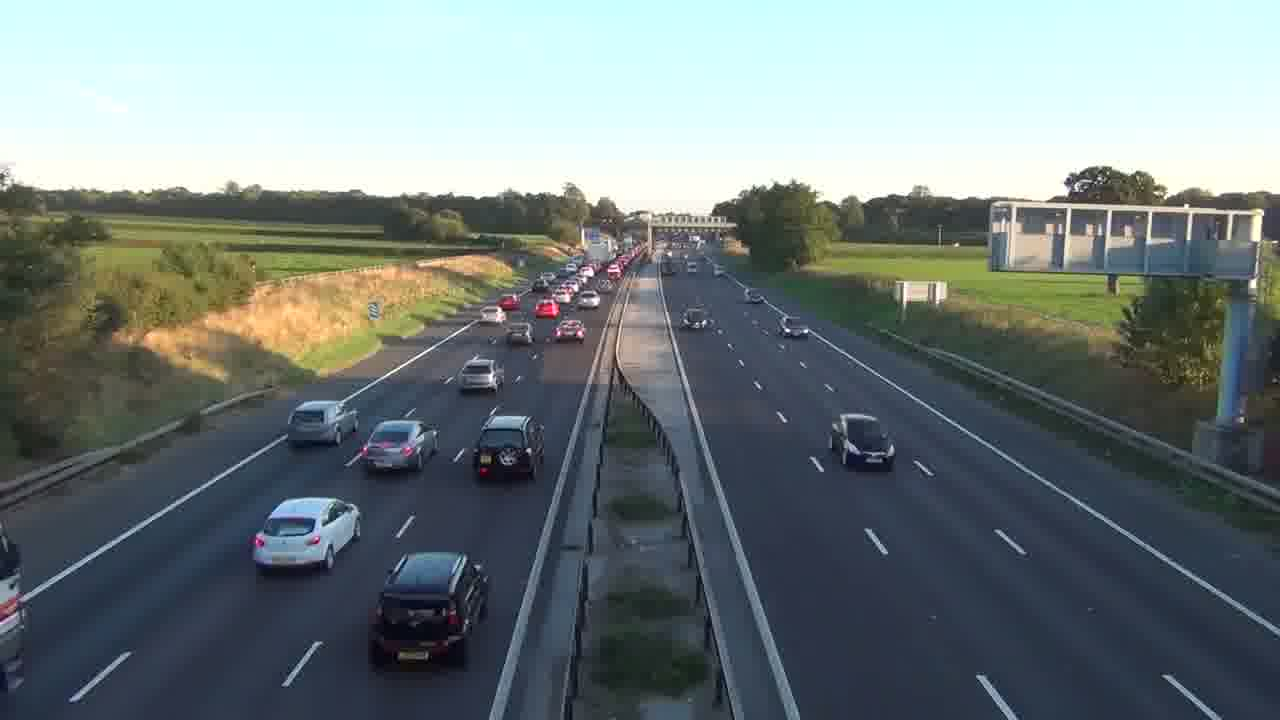car: (368, 550, 492, 667), (251, 496, 362, 575), (0, 520, 32, 692), (286, 399, 360, 446), (460, 356, 504, 392)
truck: (829, 411, 896, 471)
